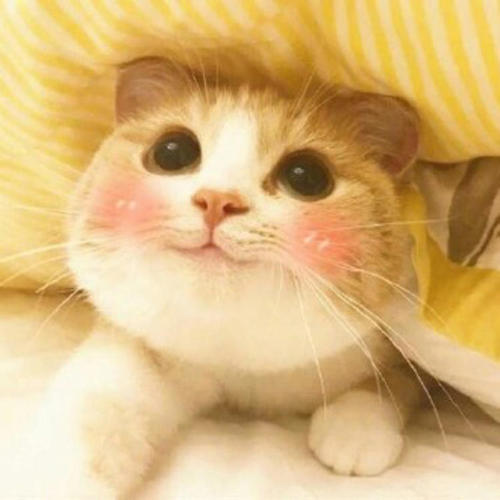cat: (65, 66, 430, 386)
